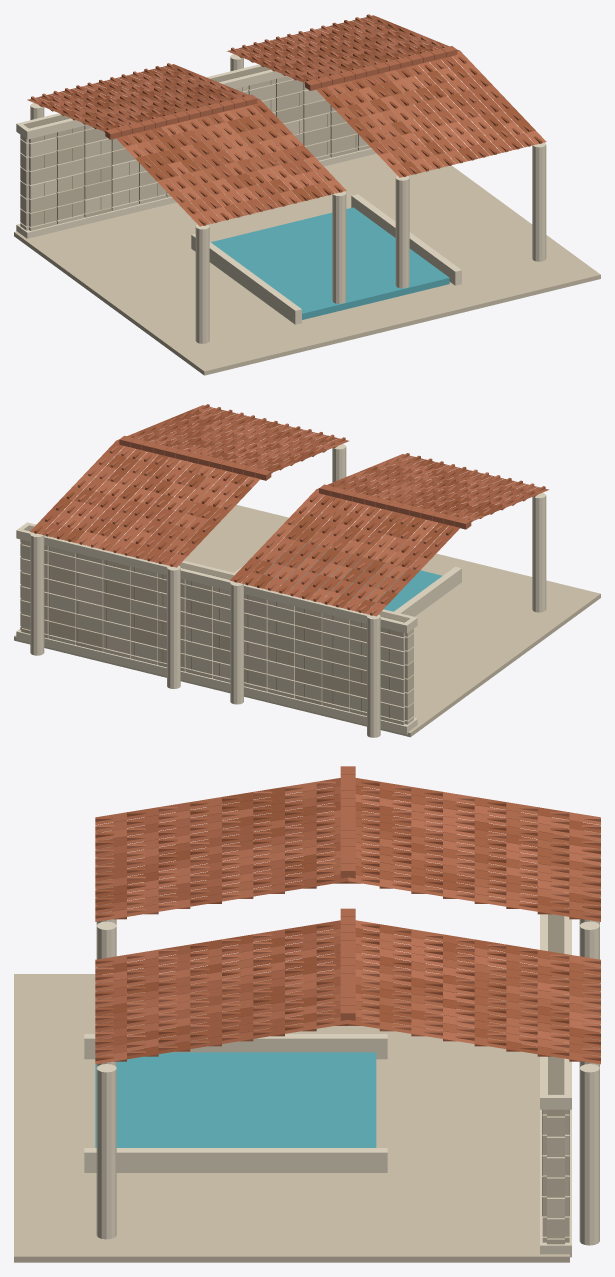
The picture shows the model from 3 angles, top to bottom: view 1: azimuth 30°, elevation 25°; view 2: azimuth 150°, elevation 25°; view 3: azimuth 270°, elevation 25°; orthographic projection. The views are drawn at different scales.
Visible parts, largest first — view 1: Bergfried – Steine, Säulen, Ziegel und Feuerstelle; view 2: Bergfried – Steine, Säulen, Ziegel und Feuerstelle; view 3: Bergfried – Steine, Säulen, Ziegel und Feuerstelle.
Boxes of the visible parts, bbox=[...] form: Bergfried – Steine, Säulen, Ziegel und Feuerstelle: bbox=[14, 14, 600, 375]; Bergfried – Steine, Säulen, Ziegel und Feuerstelle: bbox=[14, 404, 600, 737]; Bergfried – Steine, Säulen, Ziegel und Feuerstelle: bbox=[14, 766, 600, 1262].
Bounding box in the file's own units: 1190 × 445 × 1045.
